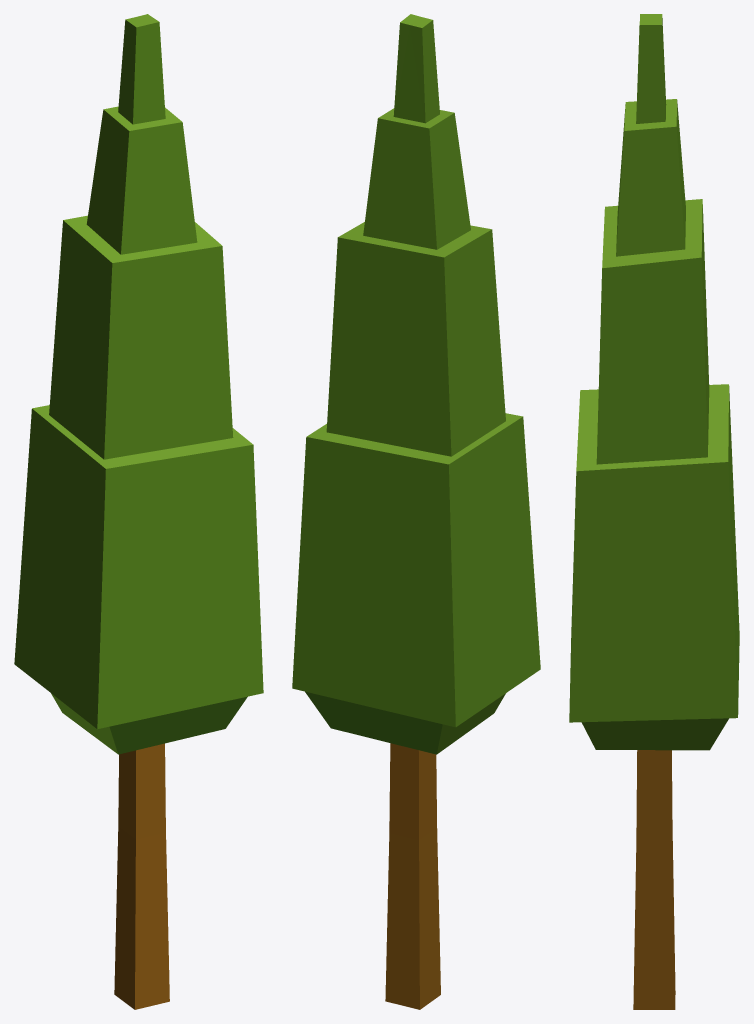
File: SmallMore_SF_Prop_Tree_09.fbx
The picture shows the model from 3 angles, left to right: view 1: azimuth 30°, elevation 25°; view 2: azimuth 150°, elevation 25°; view 3: azimuth 270°, elevation 25°; orthographic projection.
Visible parts, largest first — view 1: SF_Prop_Tree_09; view 2: SF_Prop_Tree_09; view 3: SF_Prop_Tree_09.
Part boxes in pixels (left/top/right/bottom): SF_Prop_Tree_09: left=14, top=14, right=263, bottom=1009; SF_Prop_Tree_09: left=292, top=14, right=540, bottom=1009; SF_Prop_Tree_09: left=569, top=14, right=739, bottom=1009.
Size of the model in its own units: 153 by 862 by 136.
